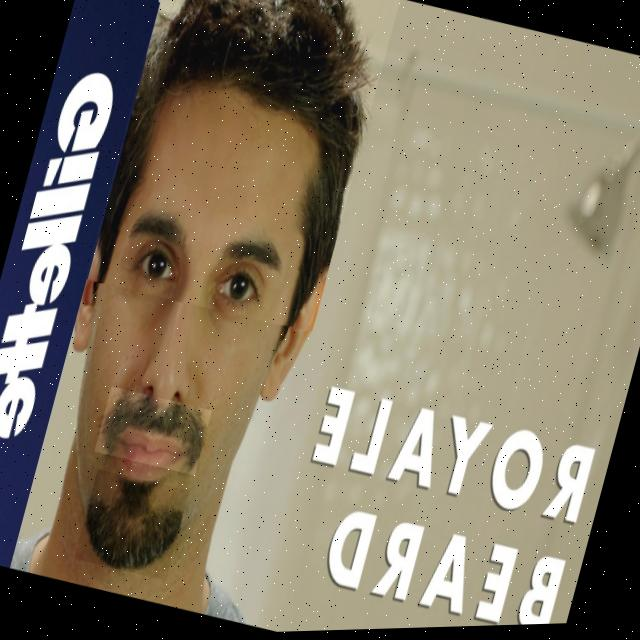beard: (84, 480, 180, 571), (99, 393, 203, 471)
hair: (97, 0, 368, 327)
